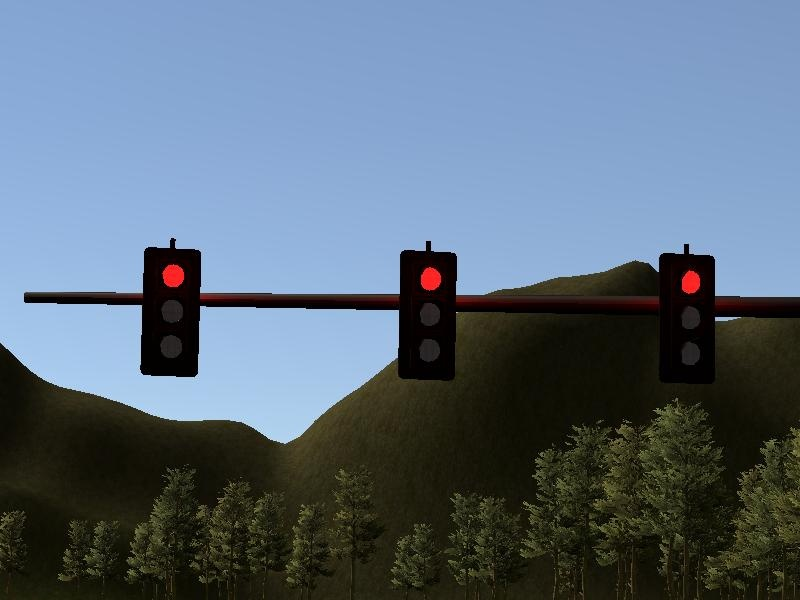Red: (396, 245, 460, 386), (138, 242, 203, 380), (655, 252, 721, 383)
